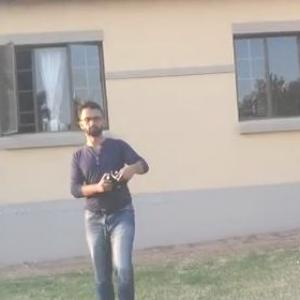follow: (64, 91, 154, 299)
